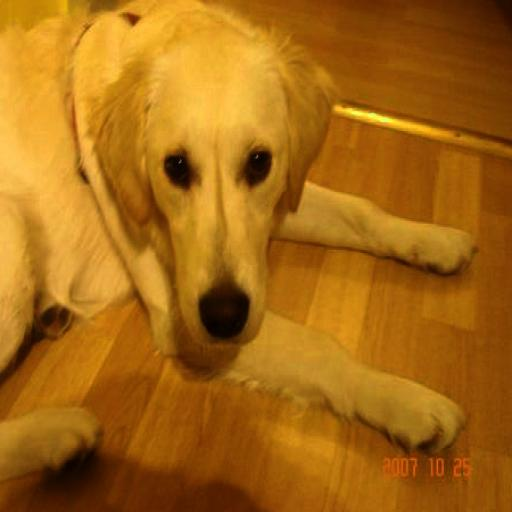dog_face: (96, 27, 314, 346)
